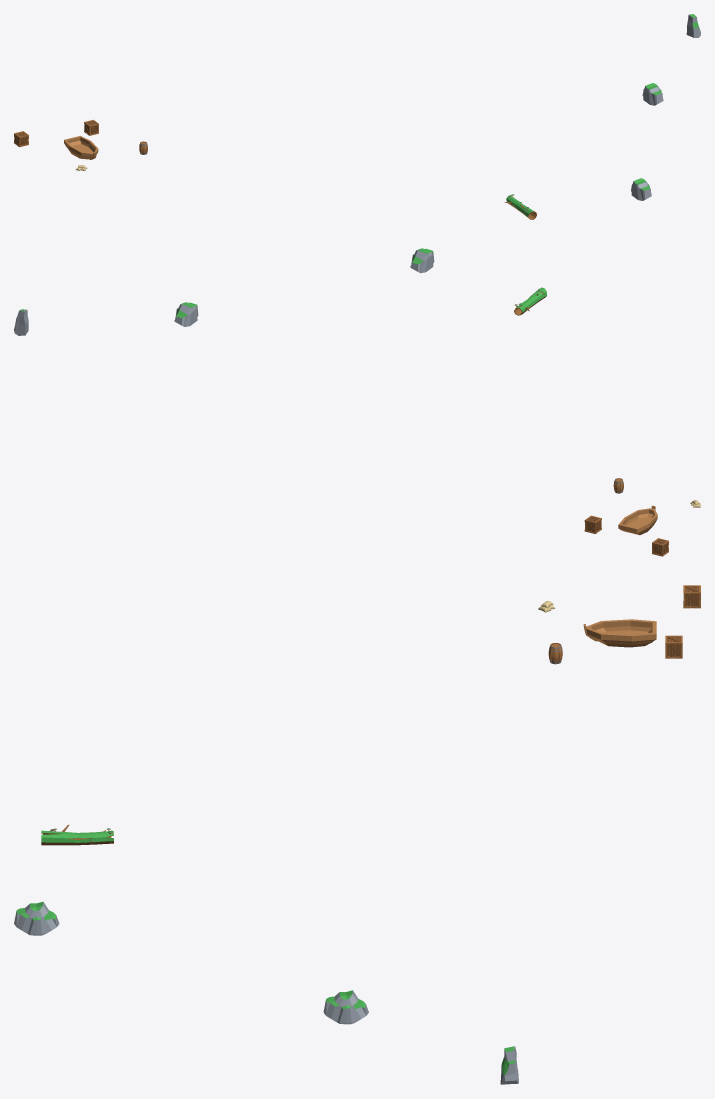
File: level.glb
3 views of the same model, one above another, from view 1: azimuth 30°, elevation 25°; view 2: azimuth 150°, elevation 25°; view 3: azimuth 270°, elevation 25° (orthographic). The views are drawn at different scales.
Visible parts, largest first — view 1: Boat.001, Rock_Moss_4.001, Rock_Moss_4.002; view 2: Boat.001; view 3: Boat.001, Rock_Moss_4.002, Rock_Moss_4.001, WoodLog_Moss.001.
Boxes of the visible parts, box(x1,y1,x2,y2) form: Boat.001: box(64, 136, 98, 159); Rock_Moss_4.001: box(642, 83, 663, 105); Rock_Moss_4.002: box(631, 178, 651, 200); Boat.001: box(618, 505, 657, 535); Boat.001: box(583, 619, 656, 647); Rock_Moss_4.002: box(14, 901, 59, 935); Rock_Moss_4.001: box(323, 990, 368, 1024); WoodLog_Moss.001: box(41, 824, 113, 845).
Bounding box in the file's own units: 63.14 × 2.52 × 37.73.
